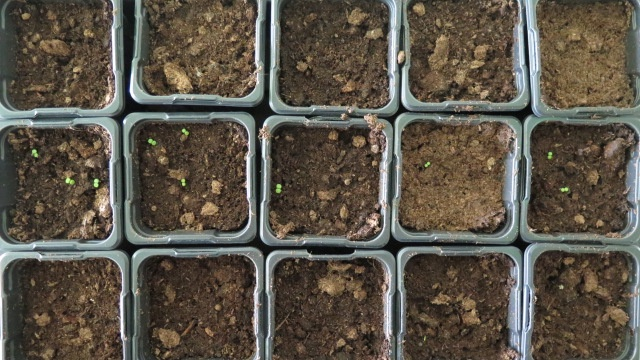weed: (273, 182, 284, 194), (145, 137, 159, 146), (63, 177, 77, 185), (179, 128, 192, 136), (178, 177, 188, 187), (545, 150, 554, 160), (556, 186, 571, 192), (422, 160, 432, 168), (92, 178, 100, 188), (30, 149, 40, 157)
